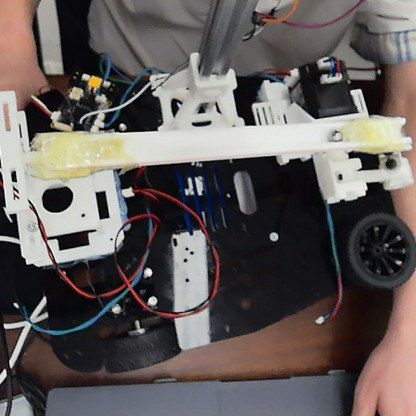ironball: (324, 125, 343, 143)
